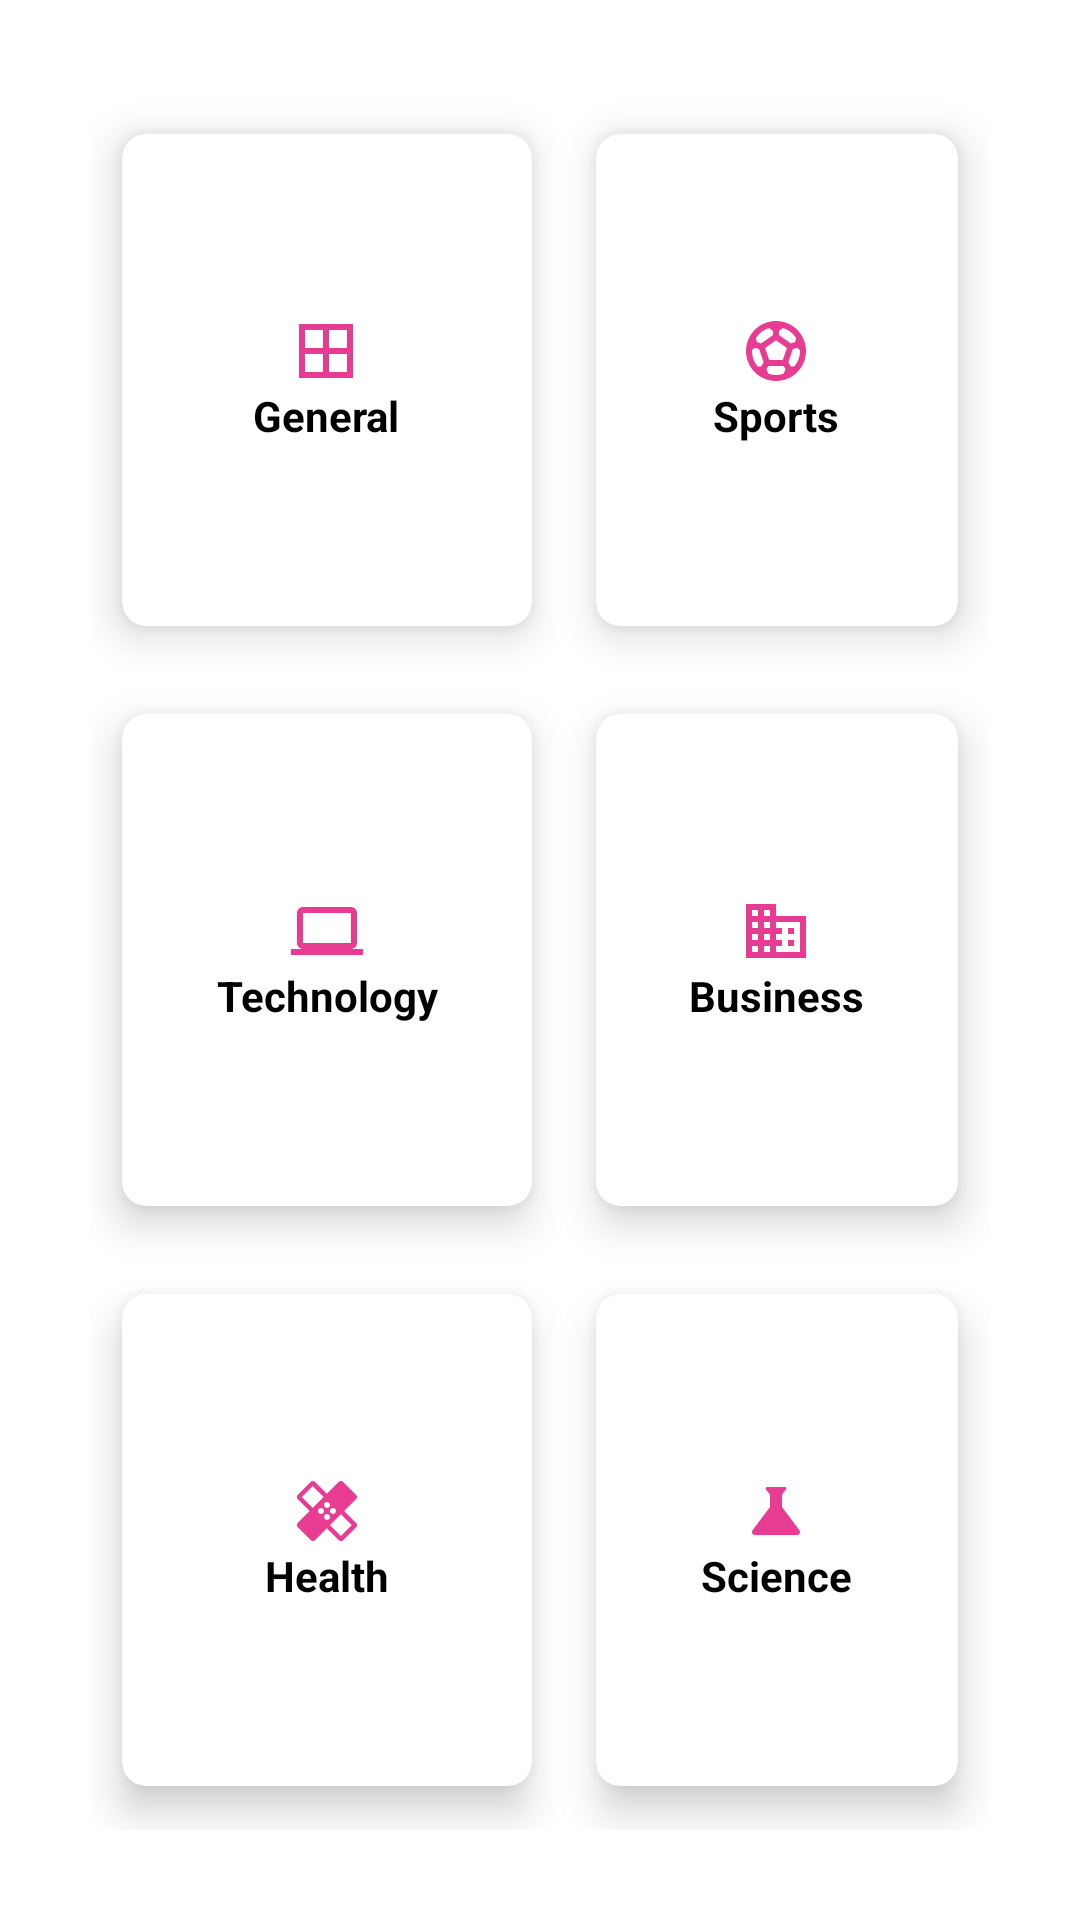

Icon bounding boxes for this 1080×1920 phone screenshot, format (left=x1, top=y1, right=x2, bottom=y2):
border all: (left=299, top=324, right=353, bottom=378)
healing: (left=297, top=1481, right=357, bottom=1541)
